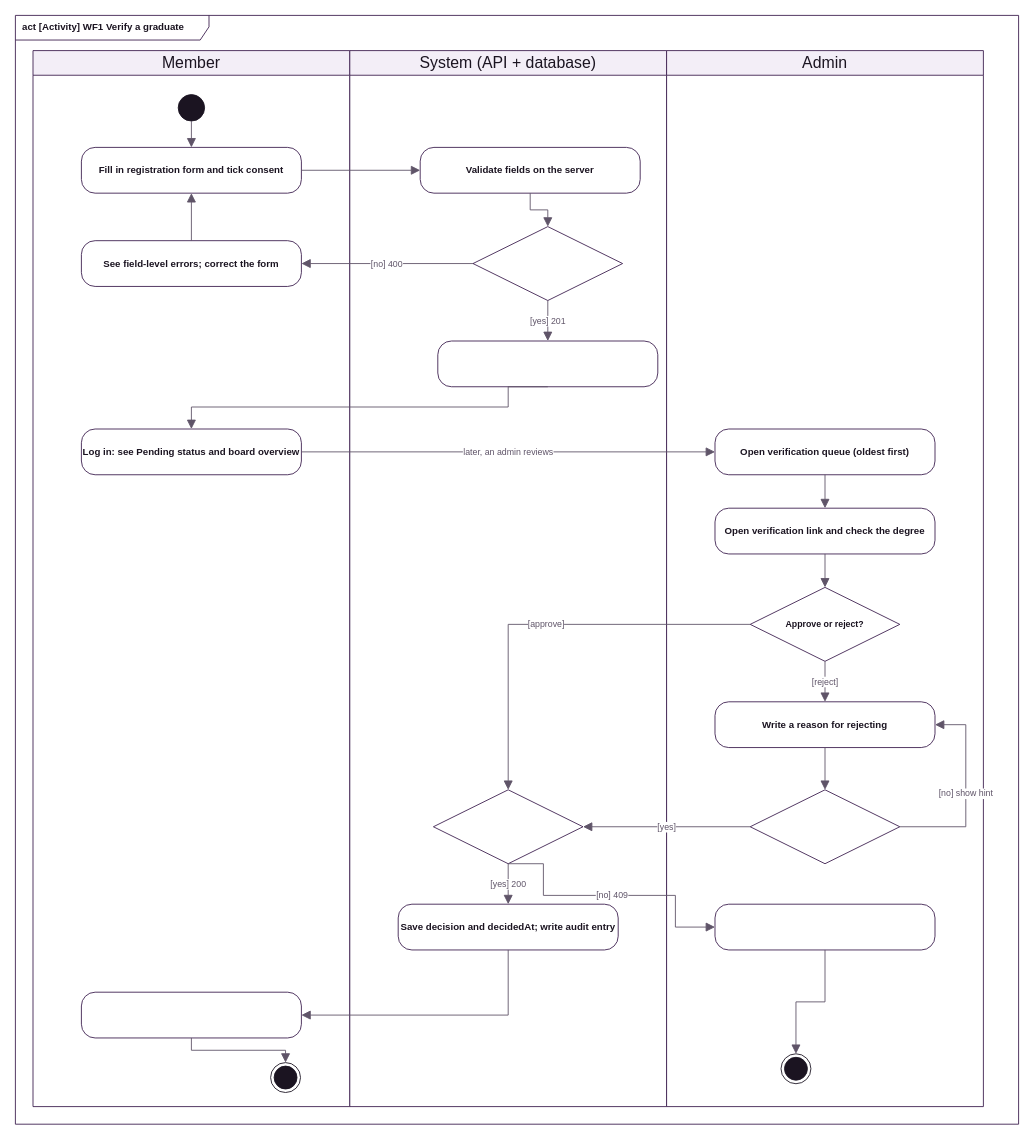
This 1034x1140 diagram has some shape labels left out. The centre of each missing label's shape, as x and y in pixels:
All fields valid?: the point at 547,263
Reason 10+ characters?: the point at 824,826
Save member as Pending; store consent time: the point at 547,363
See Verified, or Not verified with the reason, on profile: the point at 191,1014
See: another admin has already decided: the point at 824,926
Still Pending?: the point at 508,826
